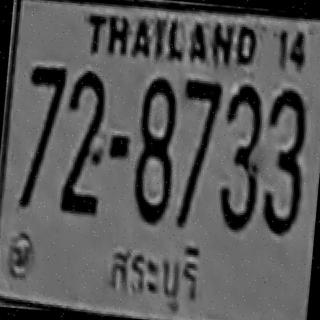N02: (62, 69, 107, 182)
N03: (258, 88, 308, 234)
N07: (177, 77, 222, 164), (23, 63, 66, 148)
N08: (130, 76, 178, 222)
P60: (95, 232, 208, 315)
